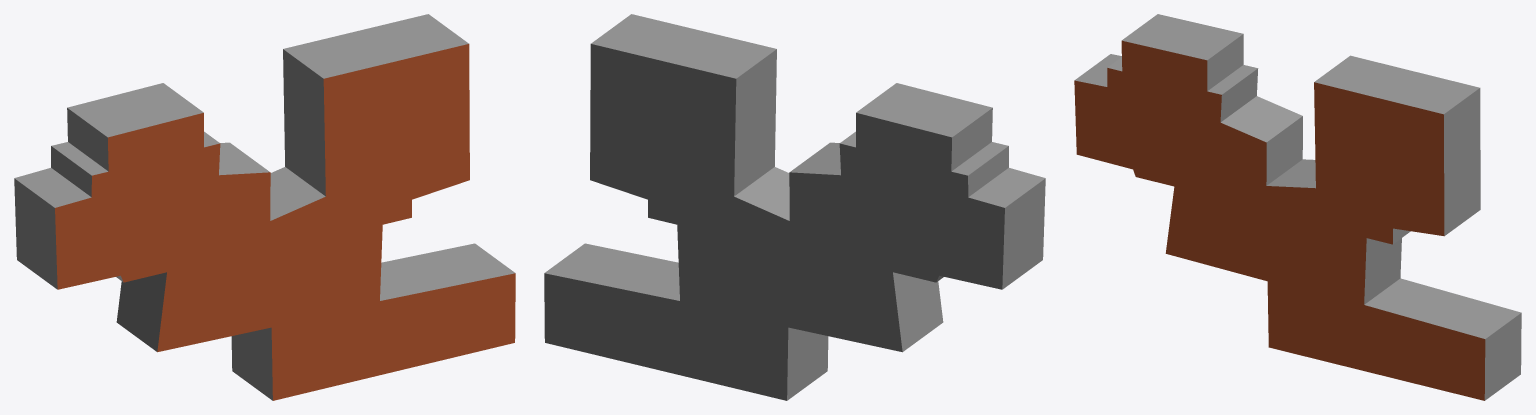
Rendered from construction_6120_assumed_A_Casa_h6m.obj.
3 views of the same model, side by side, from view 1: azimuth 30°, elevation 25°; view 2: azimuth 150°, elevation 25°; view 3: azimuth 330°, elevation 25° (orthographic). The views are drawn at different scales.
Visible parts, largest first — view 1: construction_6120_assumed_A_Casa; view 2: construction_6120_assumed_A_Casa; view 3: construction_6120_assumed_A_Casa.
Boxes of the visible parts, x1,y1,x2,y2 form: construction_6120_assumed_A_Casa: [14, 14, 515, 400]; construction_6120_assumed_A_Casa: [544, 14, 1045, 400]; construction_6120_assumed_A_Casa: [1074, 14, 1521, 400].
Bounding box in the file's own units: 39.2 × 25.26 × 6.
